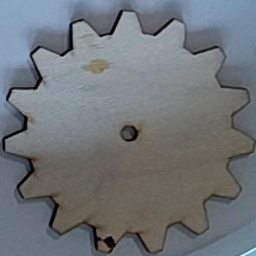Points: (92, 234, 118, 249)
